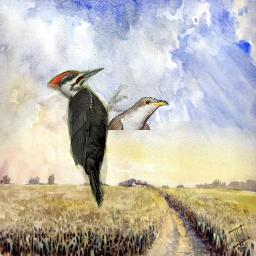Cuckoo: (107, 97, 169, 130)
Woodpecker: (47, 67, 128, 210)
